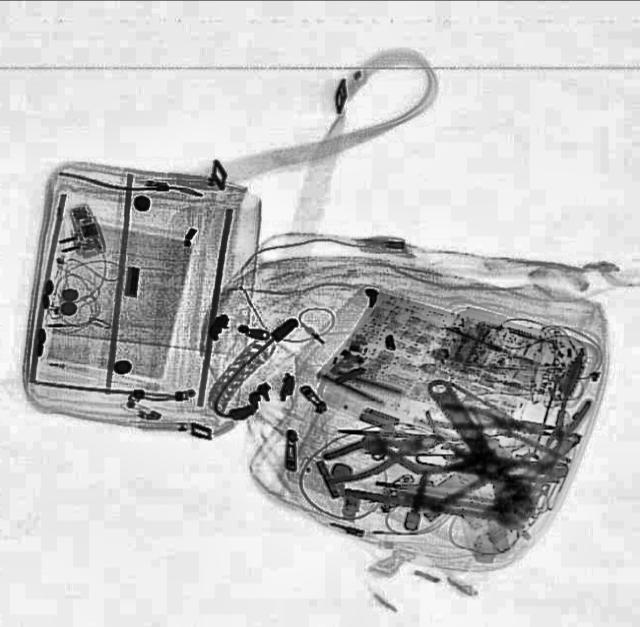Pliers: (320, 418, 450, 488), (429, 398, 558, 444)
Wrench: (416, 366, 548, 532)
